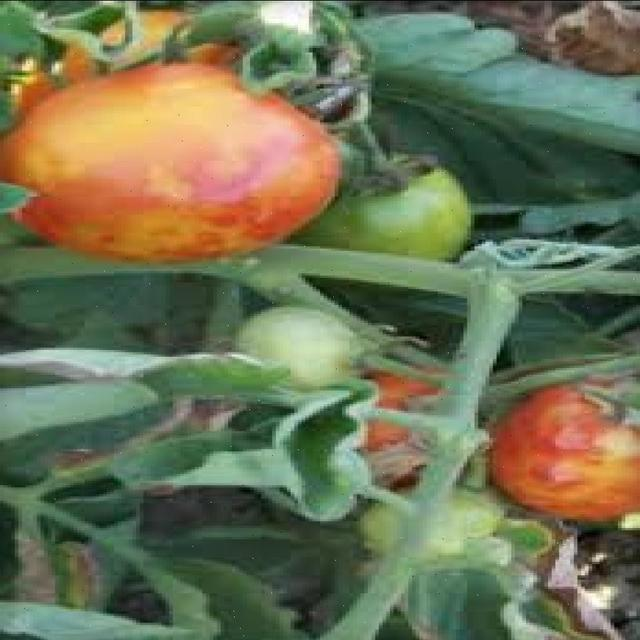Spotted wilt Virus Fruit: (105, 99, 374, 299)
